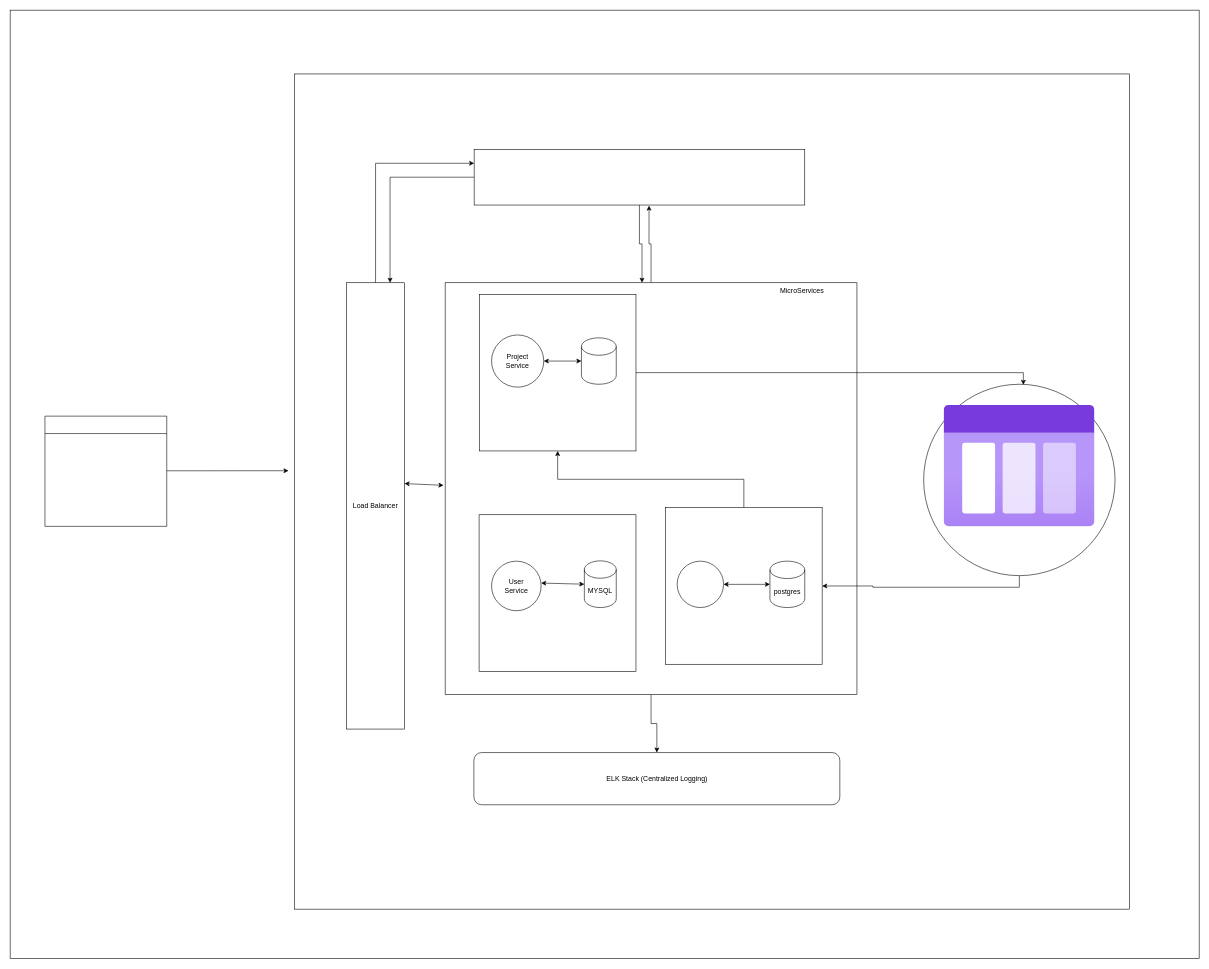
The diagram is 1209 pixels wide and 969 high, and some of its shapes have lost their labels. The box of each missing label's shape, as (x1, y1, x2, y2) in pixels:
Bug Service: (677, 561, 724, 608)
MongoDB: (581, 337, 616, 384)
Service Registry (Eureka Server): (474, 149, 805, 205)
UI: (44, 416, 167, 526)
